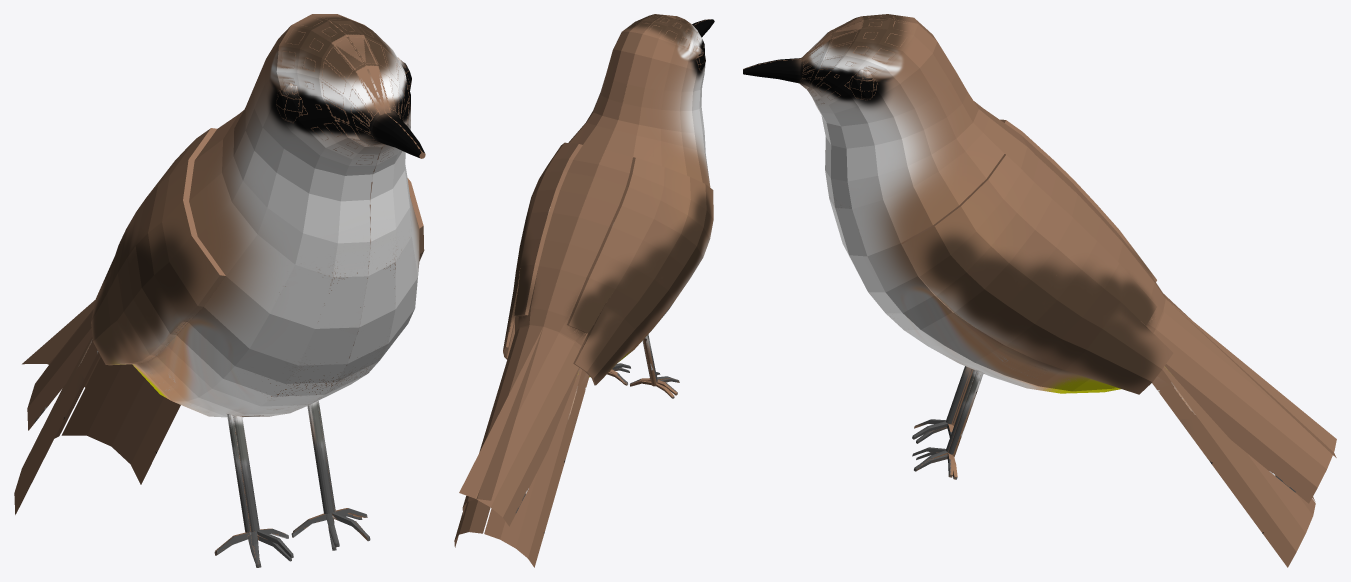
File: Color_yellowvented.fbx
3 views of the same model, side by side, from view 1: azimuth 30°, elevation 25°; view 2: azimuth 150°, elevation 25°; view 3: azimuth 270°, elevation 25° (orthographic). The views are drawn at different scales.
Visible parts, largest first — view 1: Bird Yellow vented; view 2: Bird Yellow vented; view 3: Bird Yellow vented.
Boxes of the visible parts, <box> form: Bird Yellow vented: <box>14,14,425,567</box>; Bird Yellow vented: <box>454,14,714,567</box>; Bird Yellow vented: <box>743,14,1336,567</box>.
Bounding box in the file's own units: 640 × 1586 × 1626.
